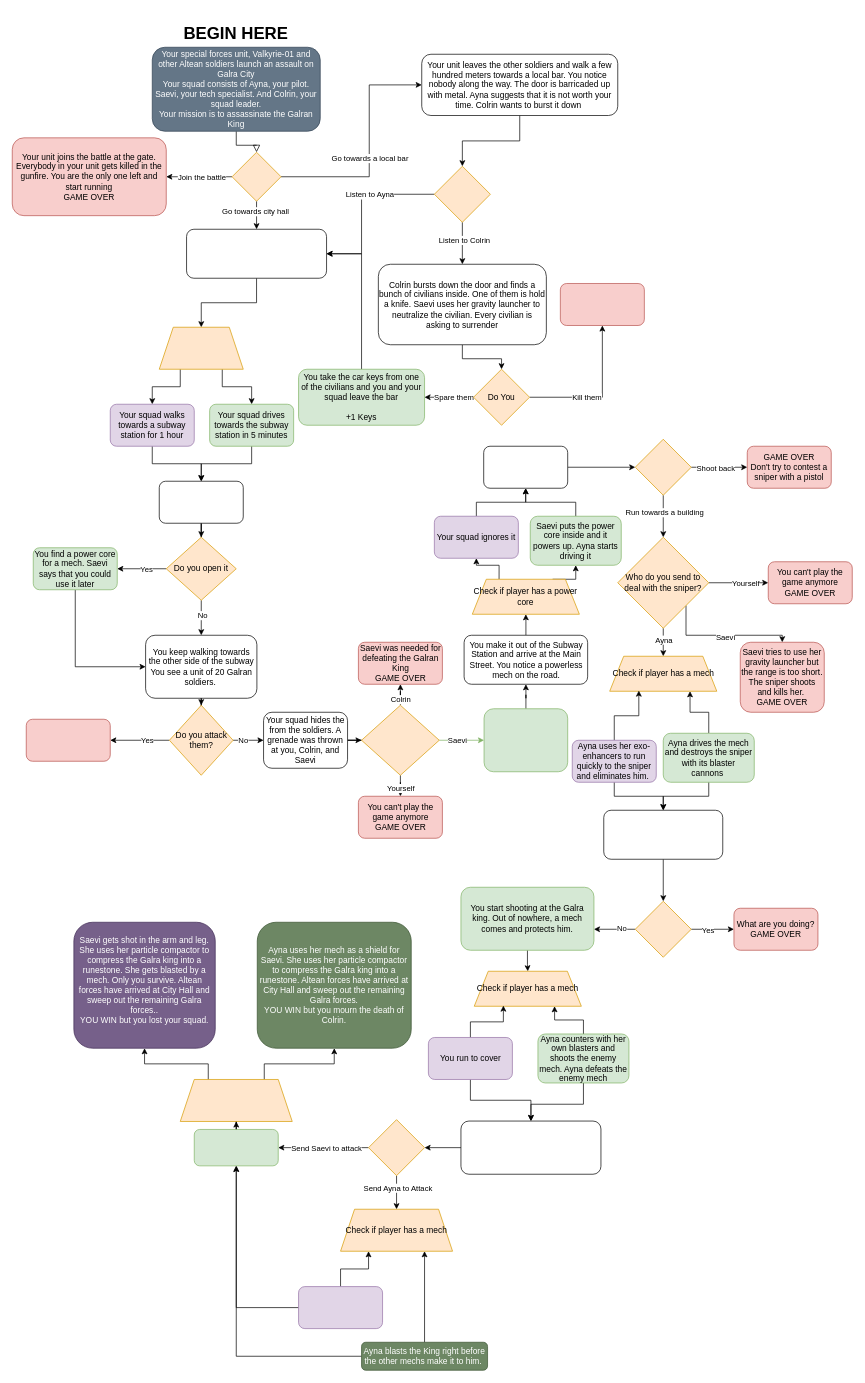
This 865x1383 diagram has some shape labels left out. Each missing label, with the box of its shape:
A sniper down the street starts shooting you specifically.: (483, 446, 568, 488)
Ayna runs towards the Galra King but she gets blasted but a mech: (298, 1286, 383, 1329)
Check if player has a mech (Is Ayna alive): (180, 1079, 292, 1121)
Check if player has car: (159, 327, 243, 369)
GAME OVER That was not apart of the mission!: (560, 283, 644, 326)
Saevi runs towards the Galra: (194, 1129, 278, 1166)
The Galra King is in a weakened state but 10 more mechs are running towards you: (460, 1120, 601, 1174)
What do you do?: (635, 439, 691, 495)
What will you choose to do?: (434, 166, 490, 222)
What will your unit do: (231, 152, 281, 201)
Who do you save?: (361, 705, 439, 775)
Who will you send?: (368, 1119, 425, 1176)
Will you?: (635, 901, 691, 957)
You arrive at Malak Square where the Galra King is. He asks you to surrender: (603, 810, 723, 859)
You notice a door glowing inside the station: (159, 481, 243, 523)
You push Saevi out of the way and you two luckily survive. Colrin gets killed.: (483, 708, 568, 772)
You tried to tackle 20 soldiers with just 4 of you GAME OVER: (26, 719, 110, 761)
Your unit leaves the other soldiers and go towards the city hall: (186, 229, 327, 278)
